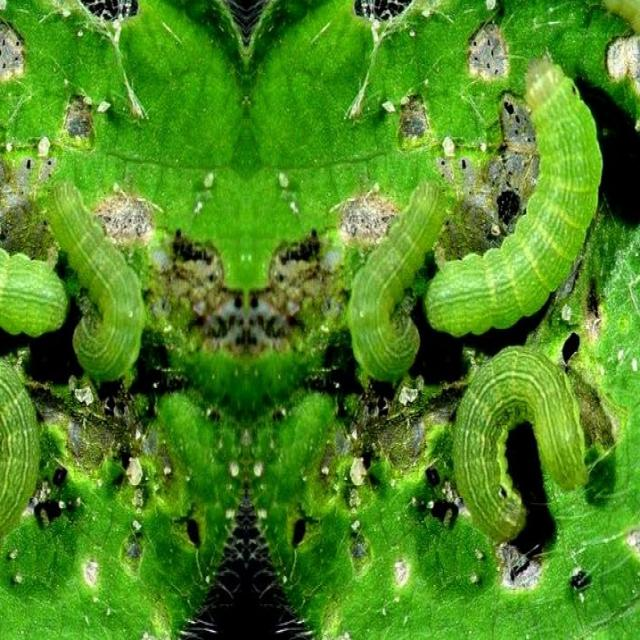Armyworm: (430, 70, 609, 346), (435, 323, 626, 540), (39, 173, 163, 389), (339, 187, 454, 405), (1, 211, 69, 373)
